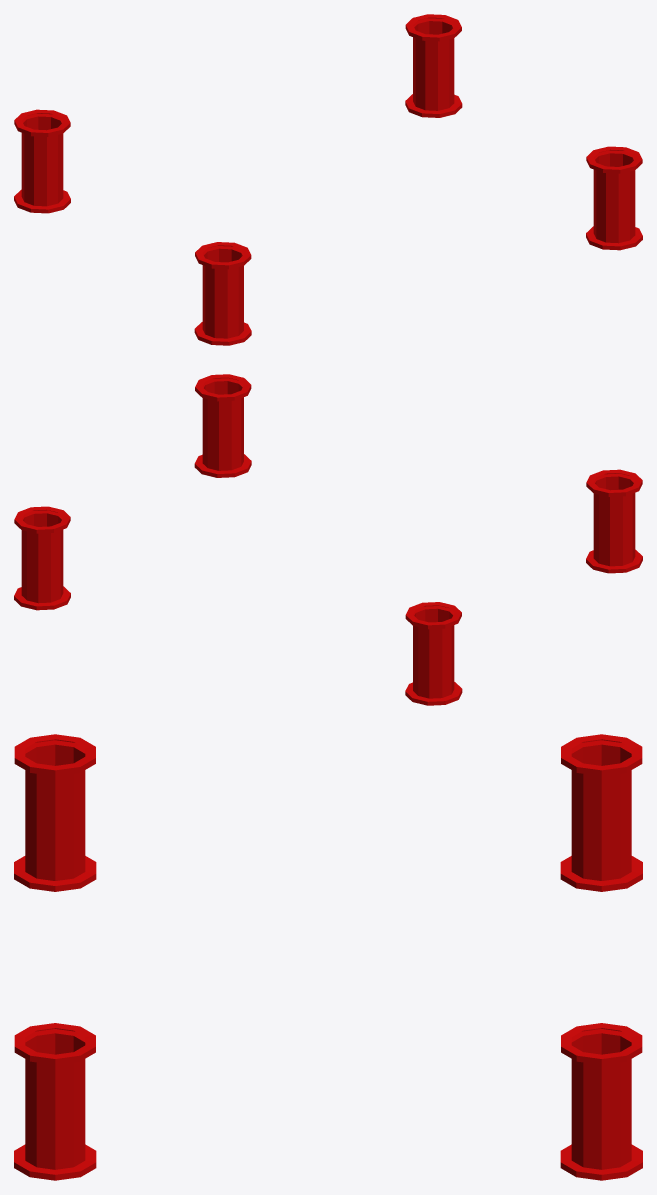
File: object_43_lev2.glb
3 renders of one model, top to bottom at view 1: azimuth 30°, elevation 25°; view 2: azimuth 150°, elevation 25°; view 3: azimuth 270°, elevation 25°, orthographic. The views are drawn at different scales.
Visible parts, largest first — view 1: object_43_lev2; view 2: object_43_lev2; view 3: object_43_lev2.
Part boxes in pixels (x1=…): object_43_lev2: x1=14, y1=14, x2=642, y2=345; object_43_lev2: x1=14, y1=374, x2=642, y2=705; object_43_lev2: x1=14, y1=734, x2=642, y2=1180.
Bounding box in the file's own units: 7.79 × 1.36 × 6.37.
